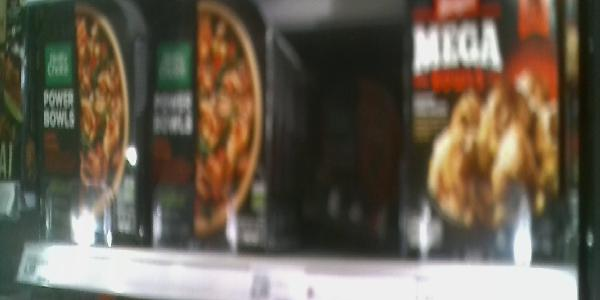pizza1: (407, 1, 579, 273), (2, 1, 148, 250), (148, 1, 269, 255)
